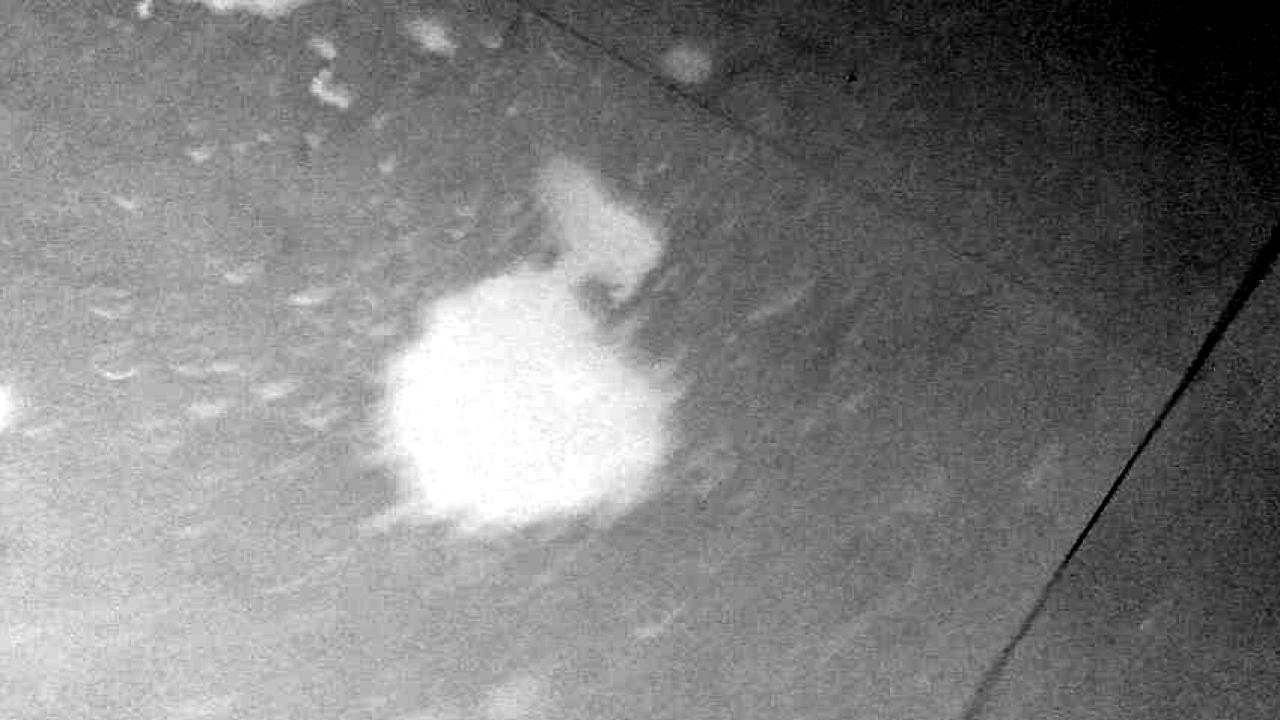drinks Stains: (341, 135, 681, 558)
